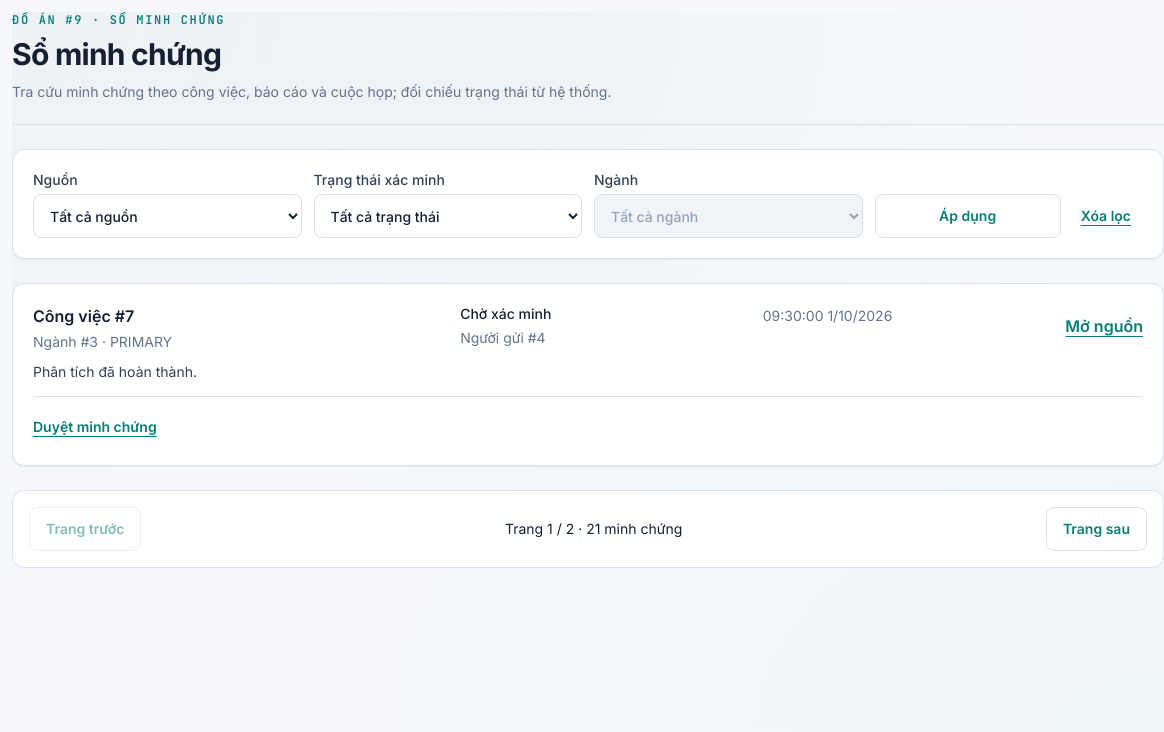
Test case: ProjectEvidenceLedger › shows a denial reason instead of a form when the server says the actor cannot review
Expected: the text "Công việc #7" is shown, [33,306,134,326]
Click the button "Duyệt minh chứng" at {"x": 95, "y": 427}, box [33,409,157,445]
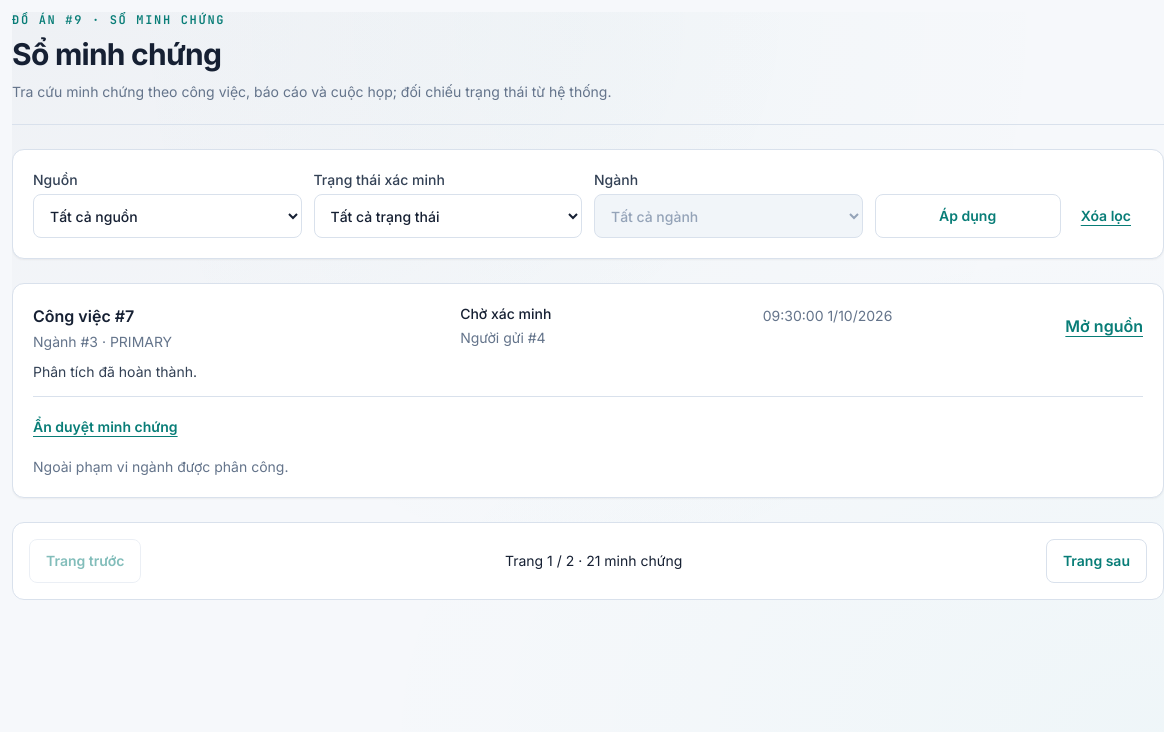
Result: the text "Ngoài phạm vi ngành được phân công." is shown at [33,458,288,475]
